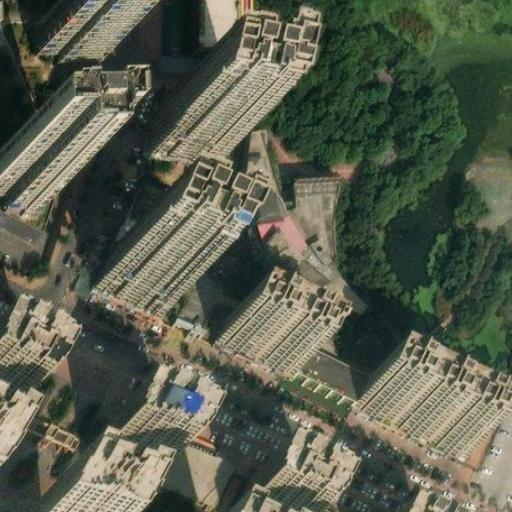building: (231, 153, 352, 337), (348, 385, 477, 467), (93, 241, 181, 308), (98, 405, 182, 474), (148, 95, 234, 162), (208, 323, 297, 384), (163, 432, 235, 500), (285, 357, 361, 414), (37, 0, 102, 56), (242, 476, 320, 512), (162, 303, 220, 350), (0, 160, 55, 206), (0, 359, 33, 416)
